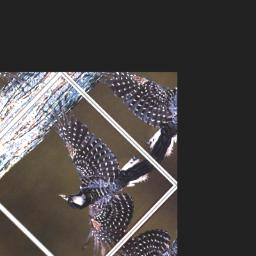Woodpecker: (0, 87, 172, 256)
